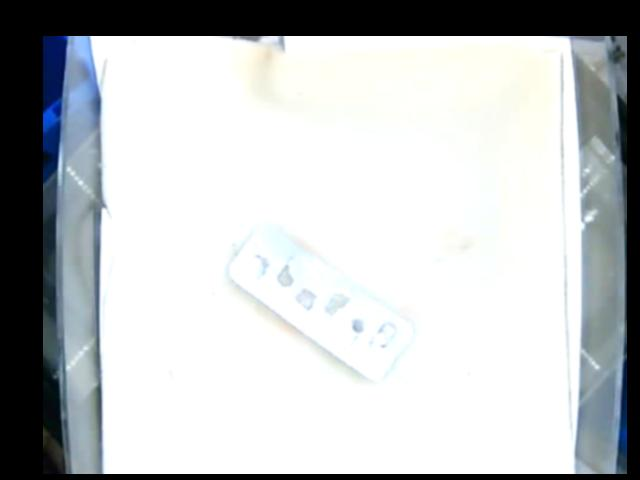Medicine: (227, 224, 410, 380)
